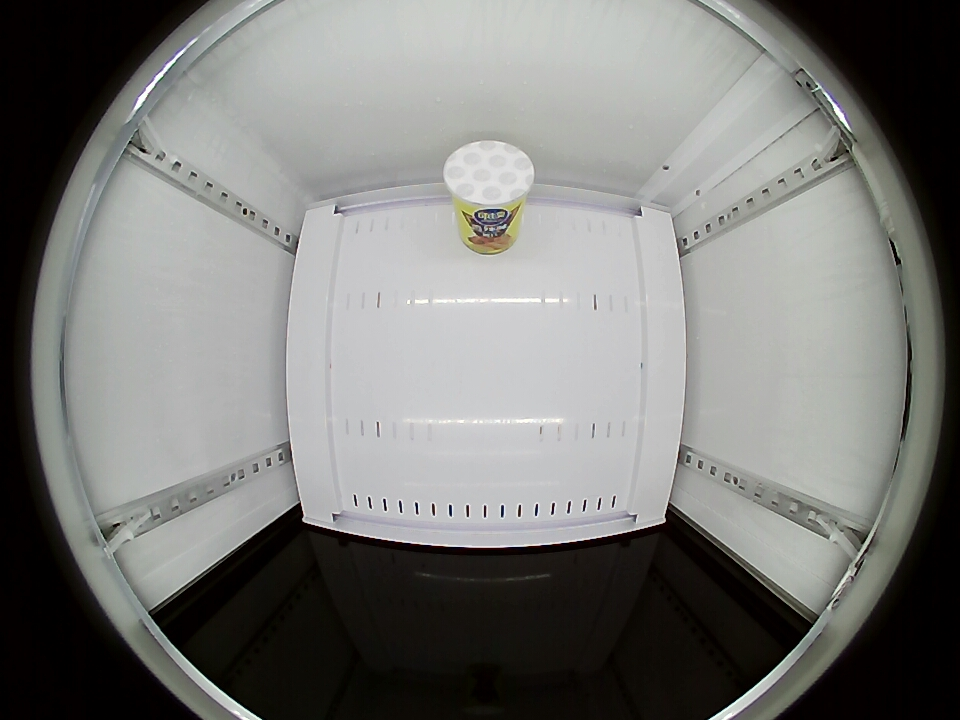kebike: (443, 140, 535, 223)
